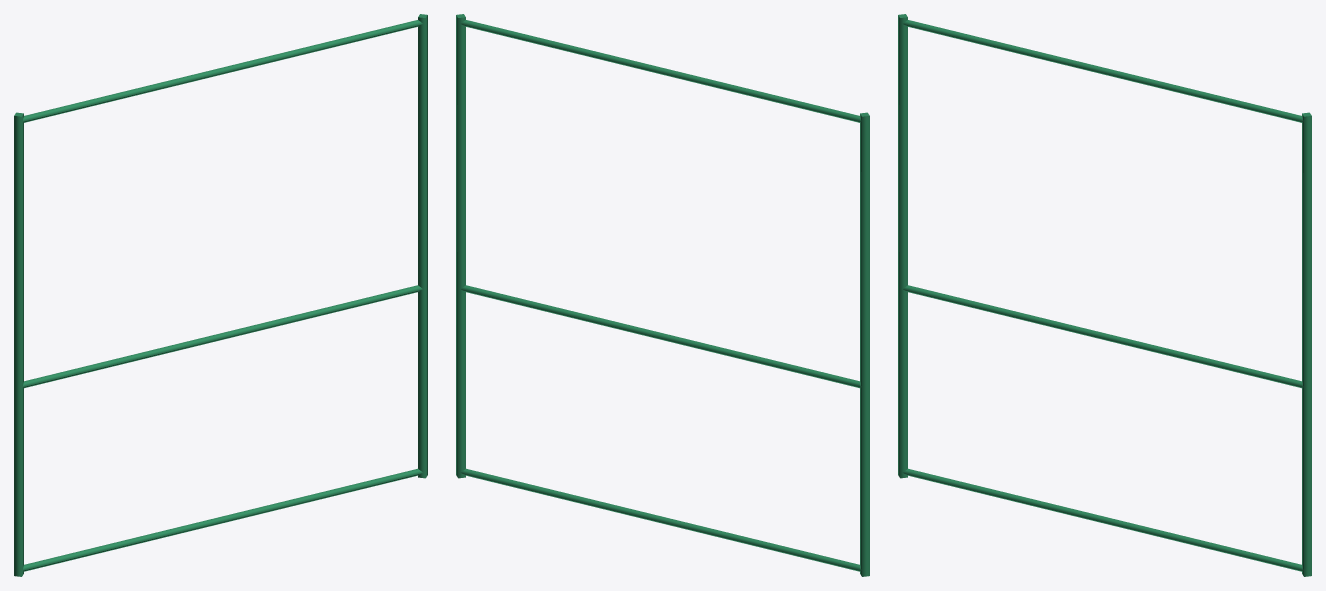
Rendered from mcp_street_fence_01_LOD_1.FBX.
The picture shows the model from 3 angles, left to right: view 1: azimuth 30°, elevation 25°; view 2: azimuth 150°, elevation 25°; view 3: azimuth 330°, elevation 25°; orthographic projection.
Parts seen in each view (by area): view 1: mcp_street_fence_01; view 2: mcp_street_fence_01; view 3: mcp_street_fence_01.
Part boxes in pixels (<box>): mcp_street_fence_01: <box>14,14,427,576</box>; mcp_street_fence_01: <box>456,14,869,576</box>; mcp_street_fence_01: <box>898,14,1311,576</box>.
Size of the model in its own units: 268 by 285 by 6.38.
